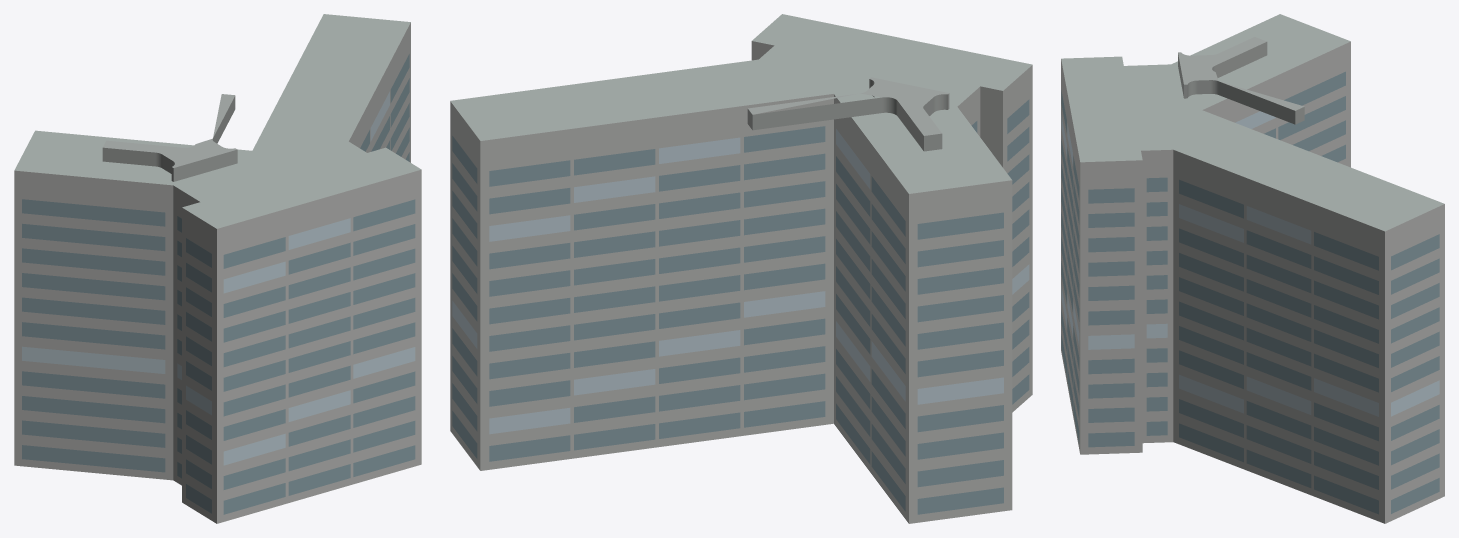
Rendered from fallback-raemian-oksu-riverzen-101.glb.
3 renders of one model, left to right at view 1: azimuth 30°, elevation 25°; view 2: azimuth 150°, elevation 25°; view 3: azimuth 270°, elevation 25°, orthographic. The views are drawn at different scales.
Parts seen in each view (by area): view 1: fallback-raemian-oksu-riverzen-101; view 2: fallback-raemian-oksu-riverzen-101; view 3: fallback-raemian-oksu-riverzen-101.
Boxes of the visible parts, left/top/right/bottom form: fallback-raemian-oksu-riverzen-101: left=14, top=14, right=421, bottom=523; fallback-raemian-oksu-riverzen-101: left=450, top=14, right=1032, bottom=523; fallback-raemian-oksu-riverzen-101: left=1061, top=14, right=1444, bottom=523.
Size of the model in its own units: 53.32 by 35 by 39.75.
